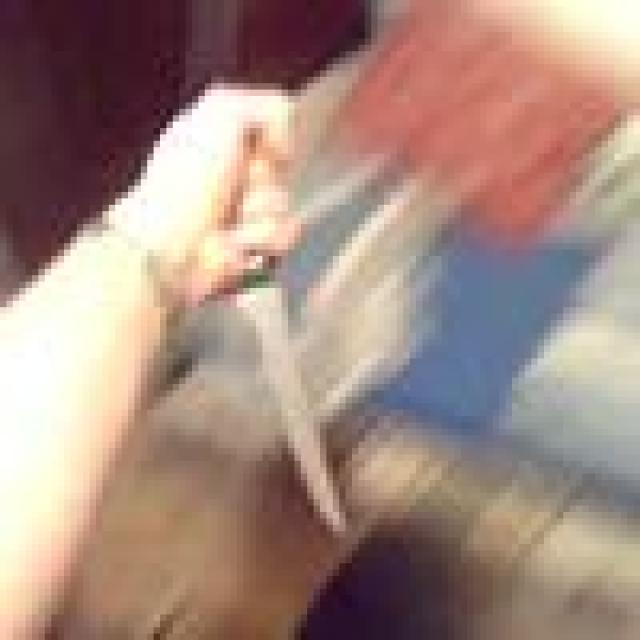knife: (238, 289, 341, 528)
